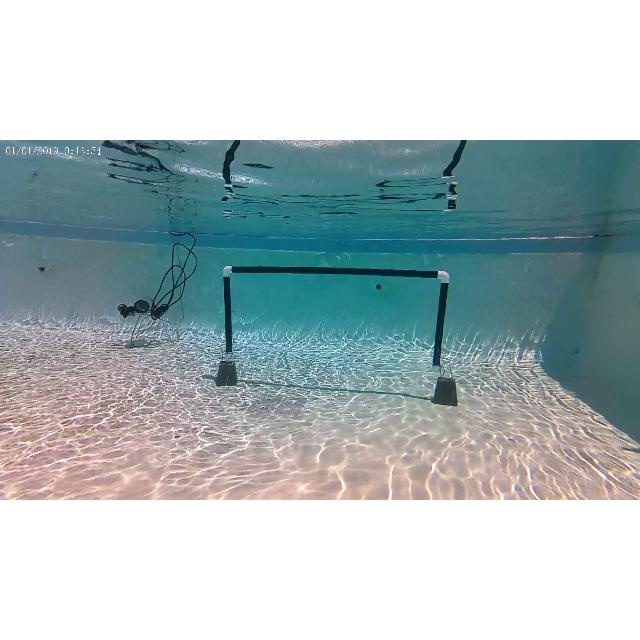prequal gate: (222, 266, 450, 370)
prequal gate leg l: (216, 267, 244, 387)
prequal gate leg r: (431, 268, 461, 409)
